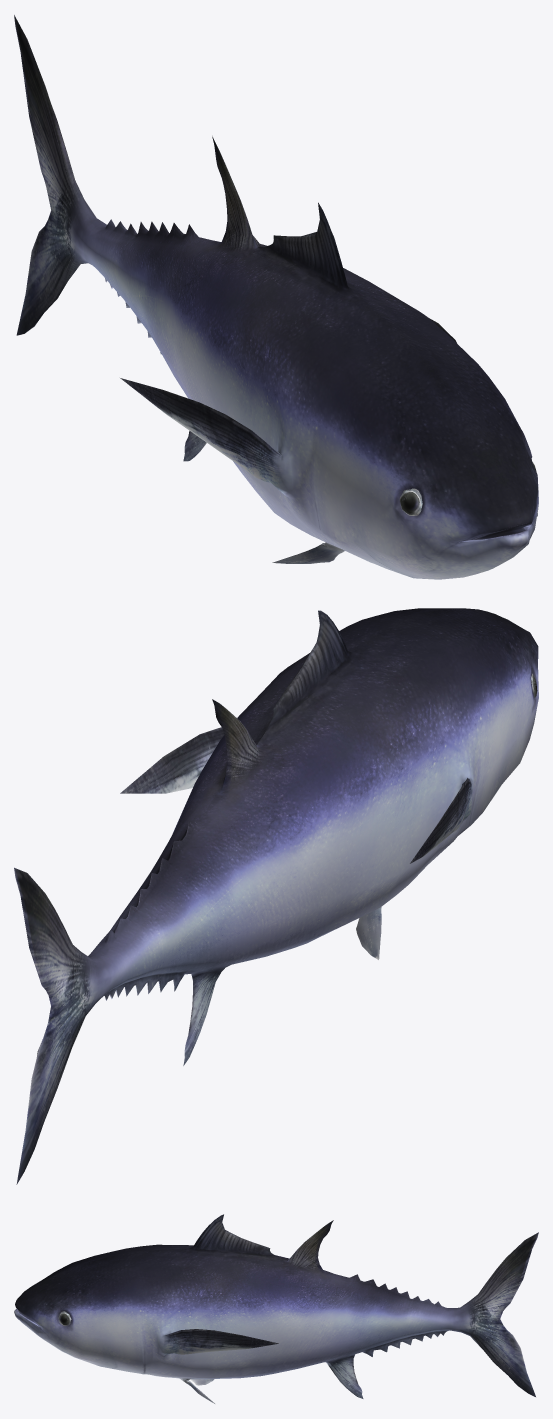
The model's file is low_bluefin_tuna(non bone).fbx.
The picture shows the model from 3 angles, top to bottom: view 1: azimuth 30°, elevation 25°; view 2: azimuth 150°, elevation 25°; view 3: azimuth 270°, elevation 25°; orthographic projection. The views are drawn at different scales.
Parts seen in each view (by area): view 1: bluefin_tuna; view 2: bluefin_tuna; view 3: bluefin_tuna.
Part boxes in pixels (x1,y1,x2,y2): bluefin_tuna: (14, 15, 538, 579); bluefin_tuna: (14, 608, 538, 1184); bluefin_tuna: (14, 1214, 538, 1403).
Bounding box in the file's own units: 0.4314 × 0.5089 × 1.31.
Materials: 1 (1 with a texture image).
